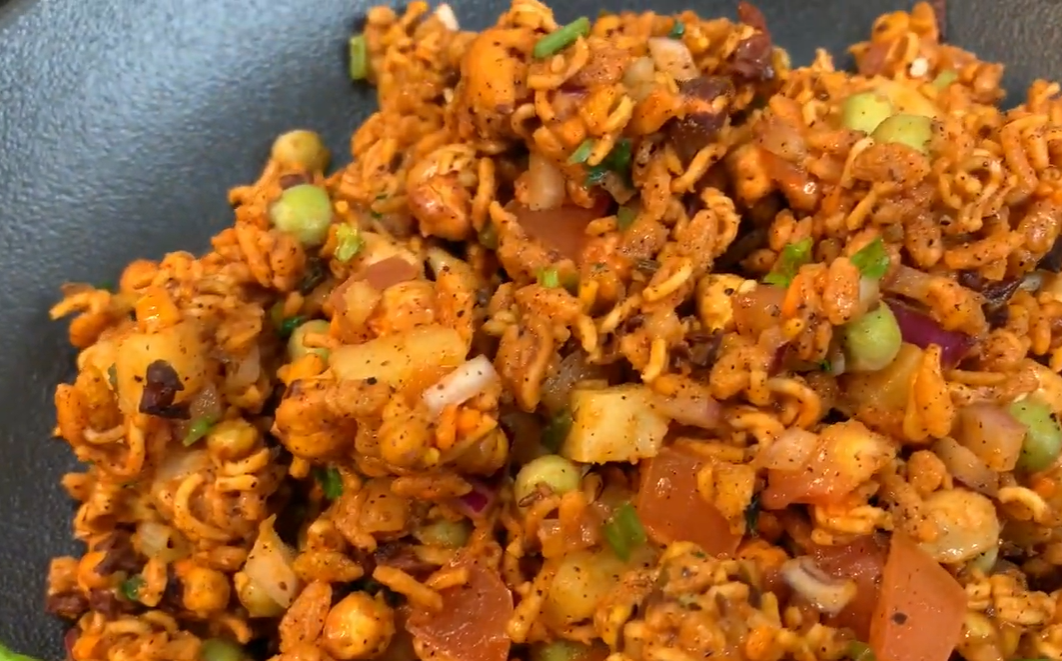chatpate: (40, 26, 1030, 631)
